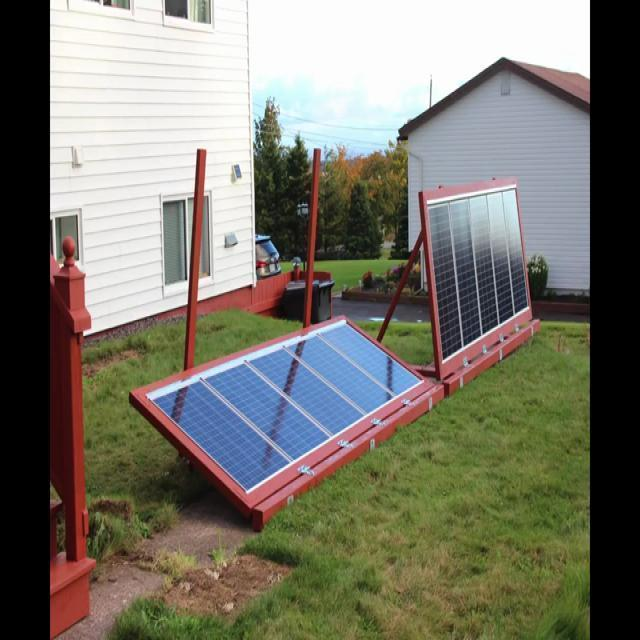Normal Solar Panel: (149, 322, 422, 494), (428, 189, 529, 361)
